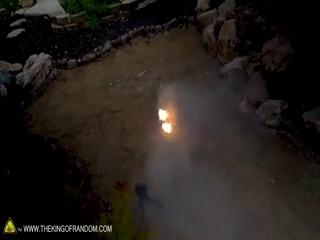Fire: (157, 105, 174, 135)
